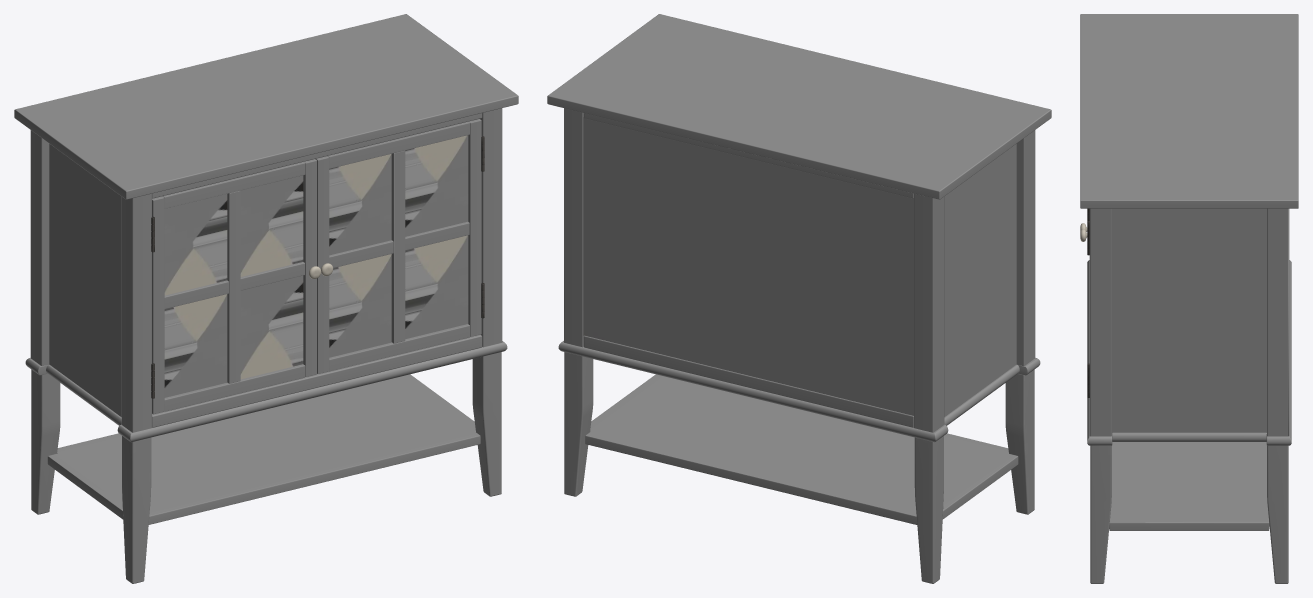
The model's file is B07G4ZXLC8.glb.
3 views of the same model, side by side, from view 1: azimuth 30°, elevation 25°; view 2: azimuth 150°, elevation 25°; view 3: azimuth 270°, elevation 25° (orthographic). The views are drawn at different scales.
Visible parts, largest first — view 1: RootNode; view 2: RootNode; view 3: RootNode.
Boxes of the visible parts, <box> form: RootNode: <box>14,14,518,583</box>; RootNode: <box>547,14,1051,583</box>; RootNode: <box>1080,14,1298,583</box>.
Size of the model in its own units: 0.801 by 0.7796 by 0.3959.
Materials: 1 (1 with a texture image).
